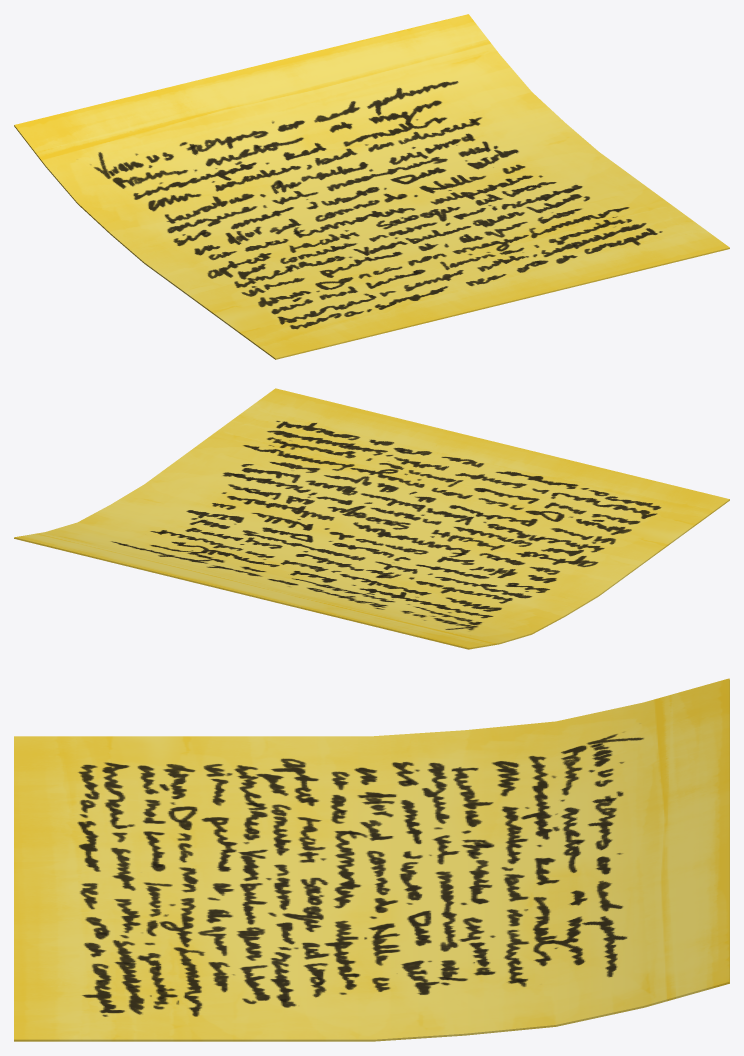
The model's file is PostIt_Single.fbx.
3 views of the same model, one above another, from view 1: azimuth 30°, elevation 25°; view 2: azimuth 150°, elevation 25°; view 3: azimuth 270°, elevation 25° (orthographic). The views are drawn at different scales.
Visible parts, largest first — view 1: PostIt_Single; view 2: PostIt_Single; view 3: PostIt_Single.
Part boxes in pixels (x1=…): PostIt_Single: x1=14, y1=14, x2=729, y2=359; PostIt_Single: x1=14, y1=388, x2=729, y2=649; PostIt_Single: x1=14, y1=678, x2=729, y2=1041.
Size of the model in its own units: 14.73 by 1.35 by 14.68.
